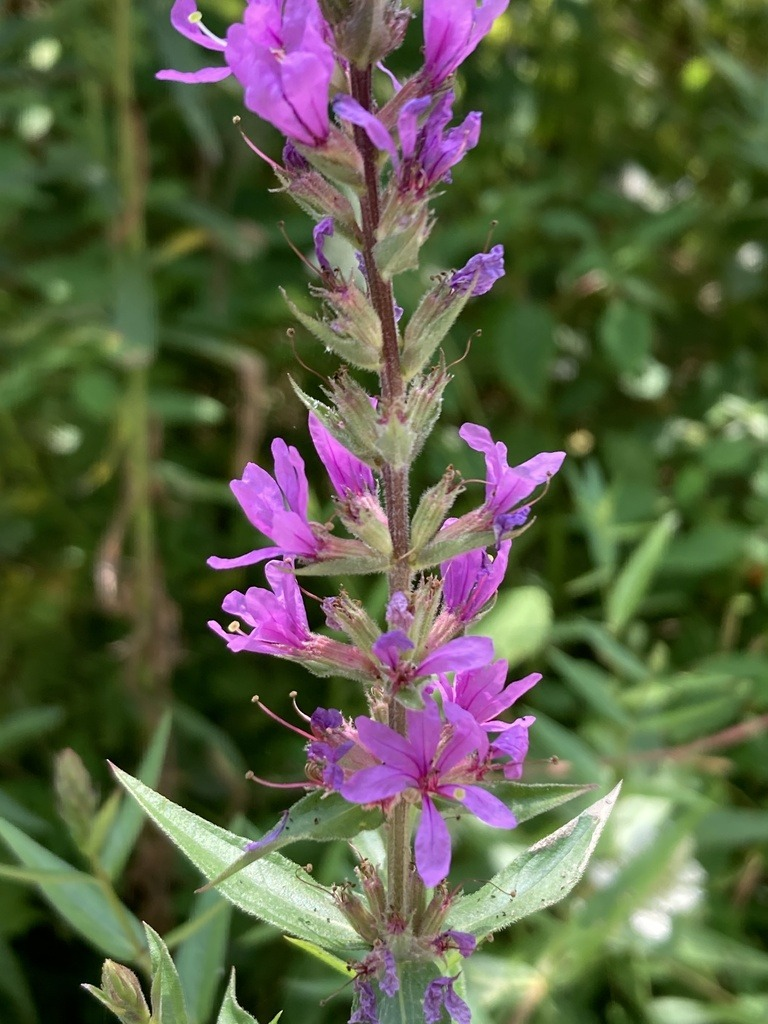purple loosestrife: (154, 2, 571, 1018)
